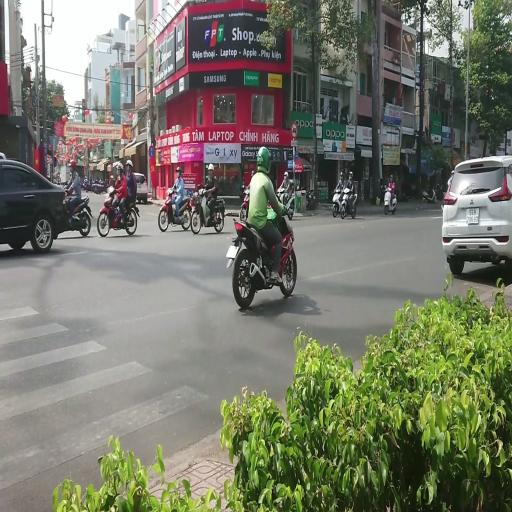bikes: (226, 202, 297, 308), (96, 186, 138, 237), (240, 185, 294, 221), (190, 185, 225, 234), (60, 186, 92, 236), (158, 188, 192, 232), (276, 189, 294, 220), (340, 186, 357, 218), (381, 183, 397, 215), (332, 184, 346, 217), (239, 186, 250, 222), (421, 187, 437, 205), (284, 193, 294, 220), (92, 178, 108, 193), (306, 188, 316, 208)
helmet: (256, 146, 270, 174), (116, 162, 123, 171), (126, 159, 132, 168), (108, 186, 114, 195), (207, 164, 214, 171), (70, 170, 76, 178), (244, 187, 250, 194), (70, 160, 76, 167), (167, 188, 172, 195), (176, 166, 181, 172), (349, 171, 353, 178), (340, 172, 344, 178), (284, 172, 288, 178), (251, 170, 255, 176), (84, 177, 88, 182), (390, 176, 393, 181), (451, 170, 454, 175), (392, 183, 395, 188), (110, 174, 113, 178), (70, 171, 72, 176)
